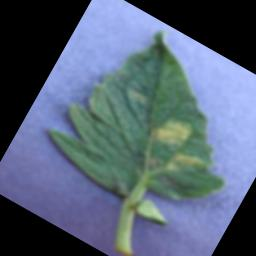Leaf_Mold: (144, 105, 198, 157), (163, 144, 206, 184)
